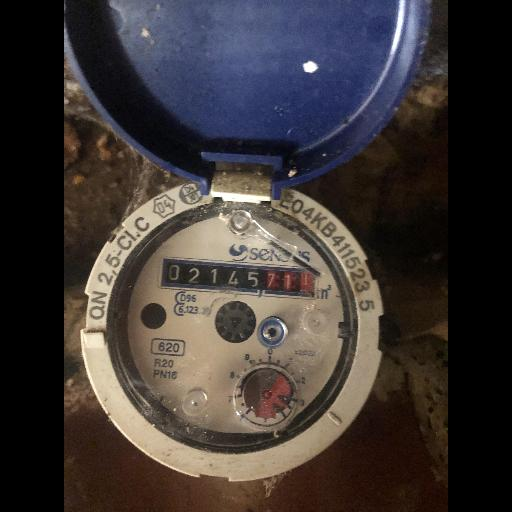0: (165, 262, 183, 285)
1: (300, 273, 315, 298), (206, 265, 222, 287), (281, 270, 297, 292)
2: (185, 263, 204, 285)
4: (226, 267, 243, 288)
5: (244, 268, 262, 290)
7: (263, 269, 279, 291)
border_water_meter_number: (157, 256, 320, 300)
